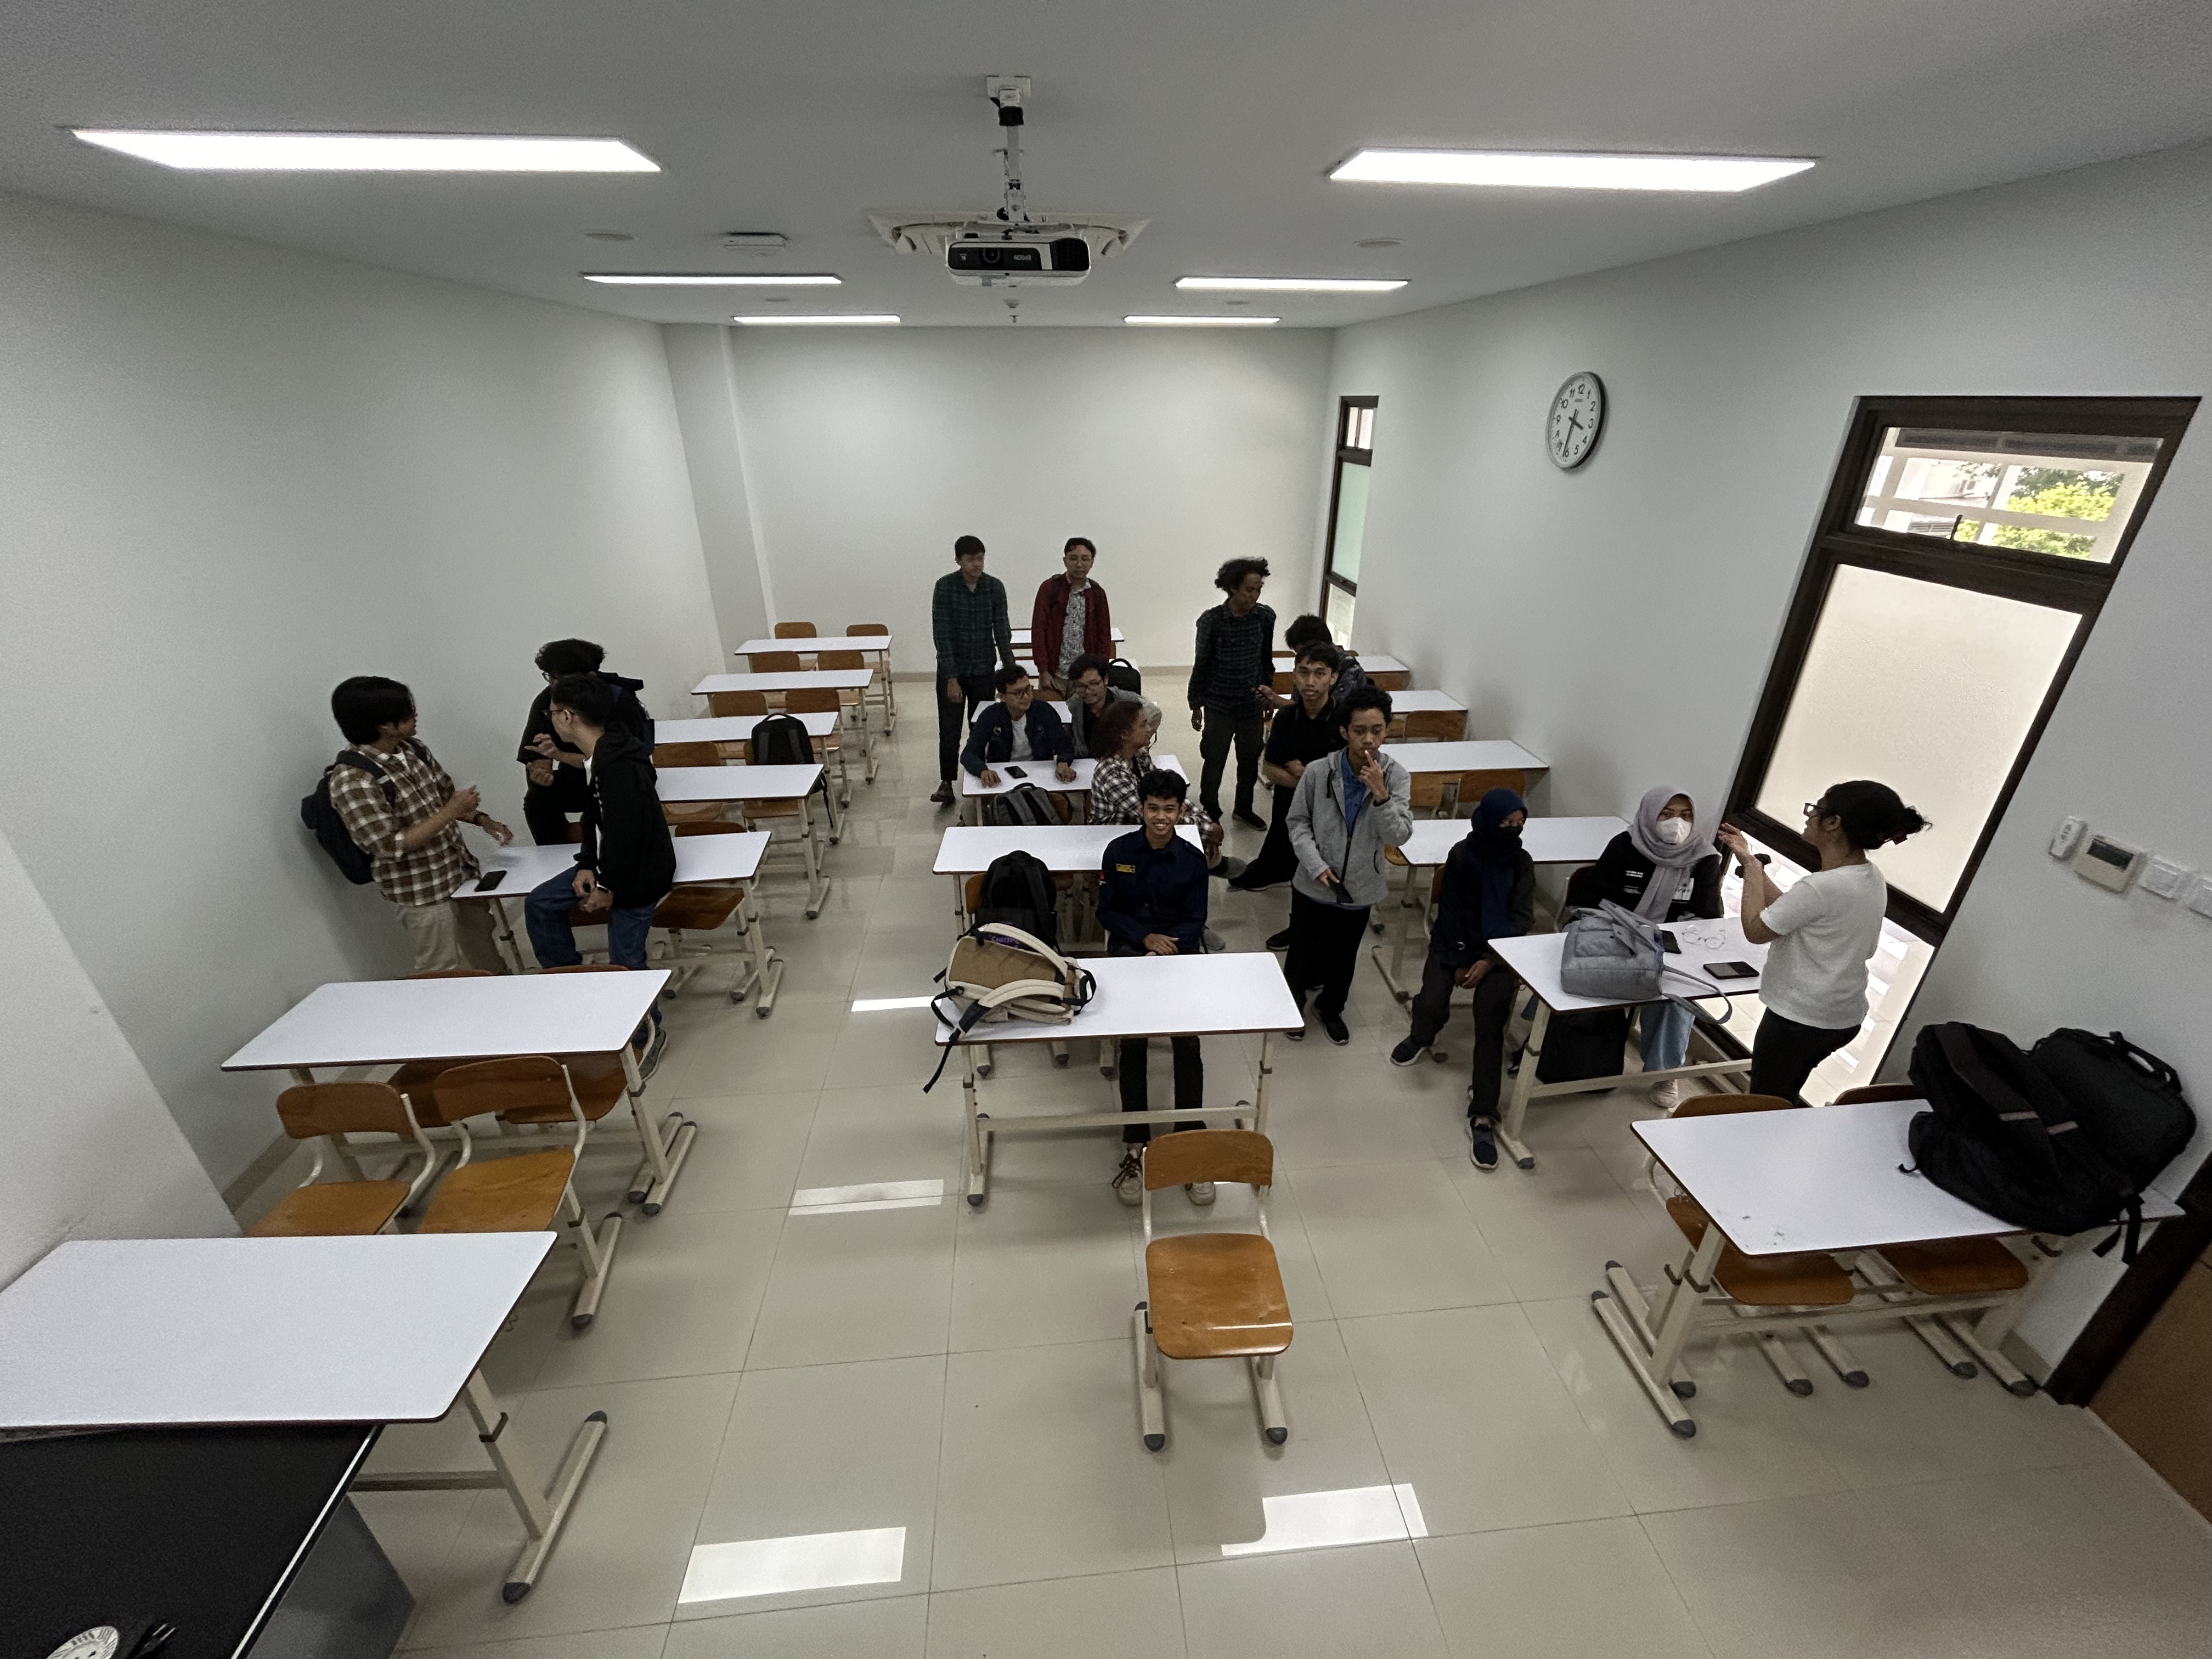person: (293, 673, 479, 974), (1725, 780, 1892, 1106), (1276, 689, 1421, 1014), (1429, 785, 1545, 1192), (534, 680, 677, 955), (1183, 557, 1274, 813), (1103, 775, 1211, 957), (1590, 781, 1719, 920), (933, 533, 1012, 663), (1031, 534, 1113, 656), (967, 673, 1065, 766), (1091, 704, 1156, 759), (1285, 646, 1342, 709), (1066, 659, 1109, 707)
